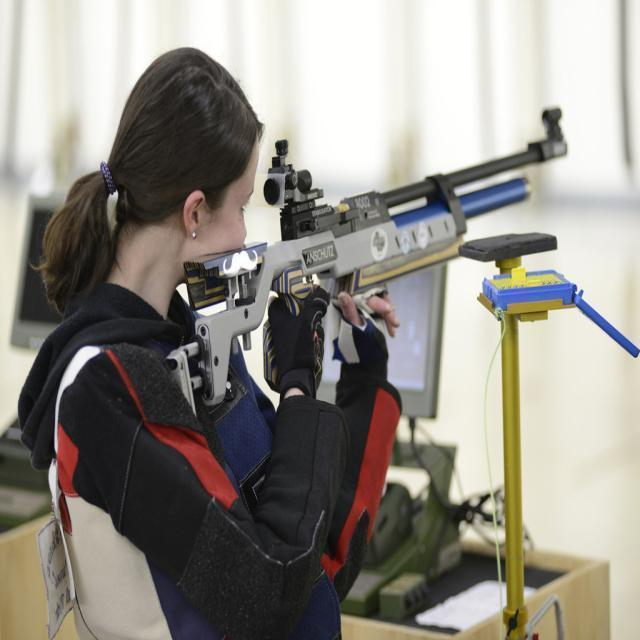Rifle: (167, 111, 567, 412)
